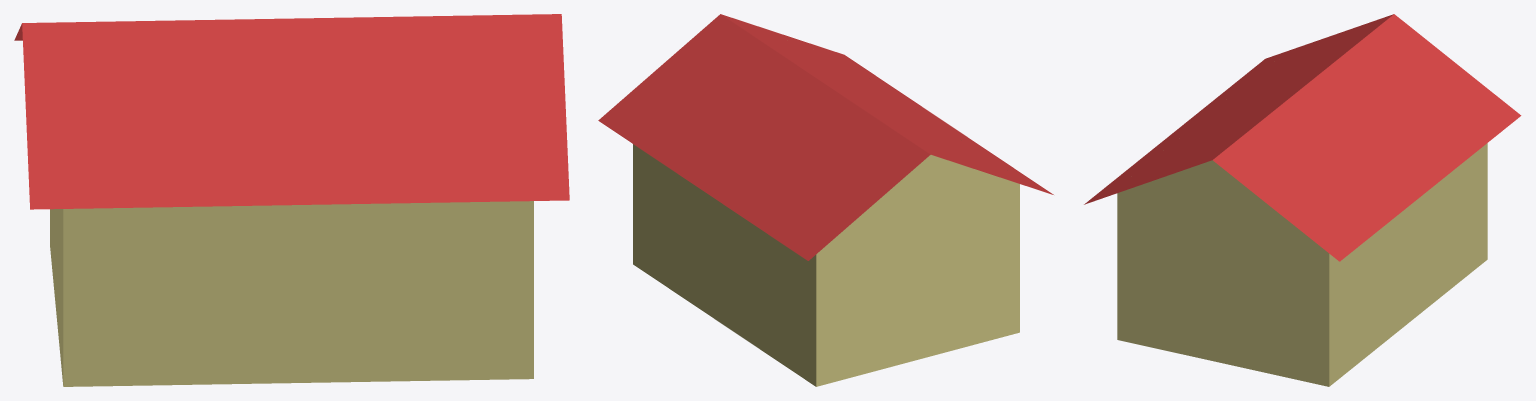
3 renders of one model, left to right at view 1: azimuth 30°, elevation 25°; view 2: azimuth 150°, elevation 25°; view 3: azimuth 270°, elevation 25°, orthographic. The views are drawn at different scales.
Bounding box in the file's own units: 38.43 × 35.02 × 18.77.
